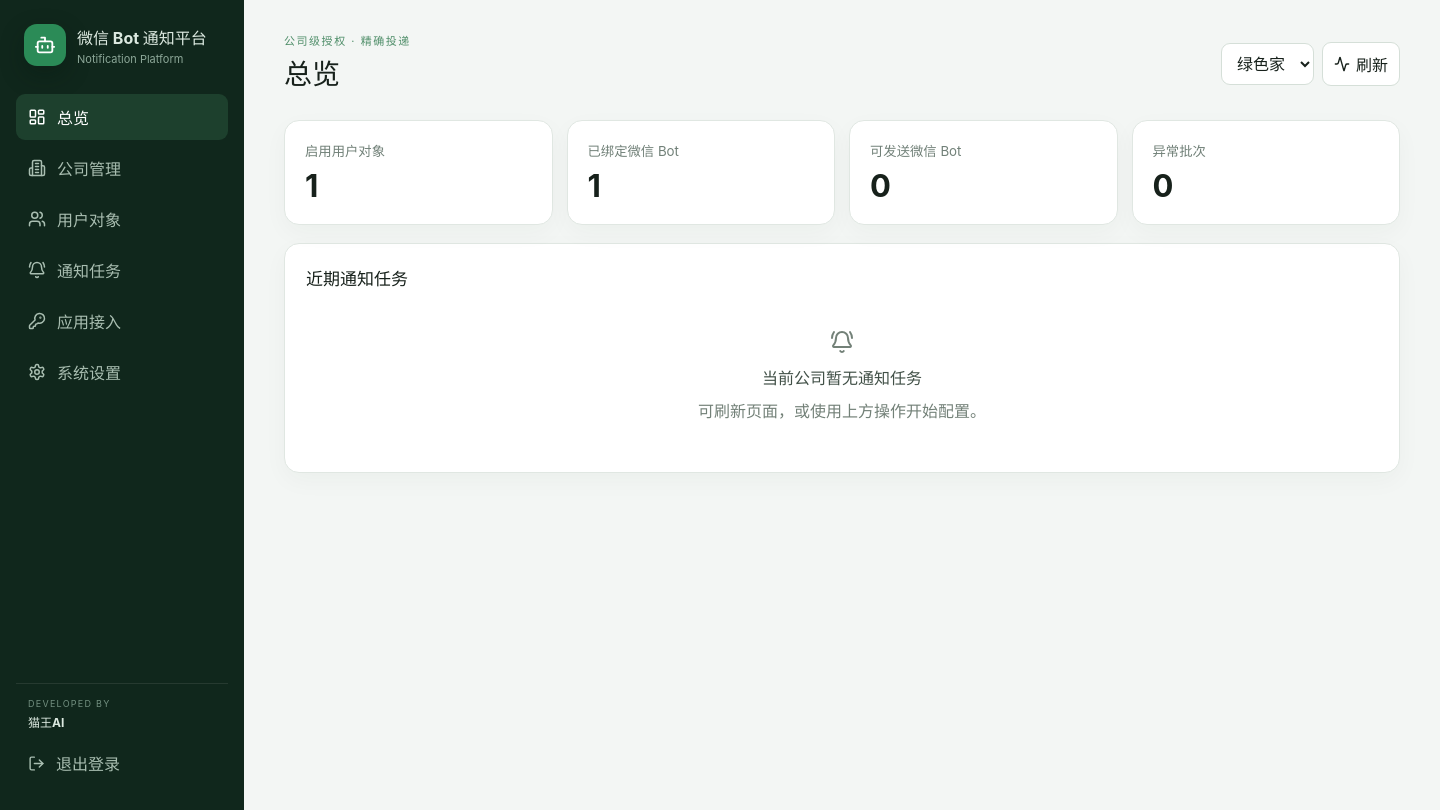
Scenario: merged user object management › explains that the first Weixin message initializes a newly paired Bot
The width and height of the screenshot is (1440, 810).
Click the button "用户对象". click: (122, 219)
box: [16,196,228,242]
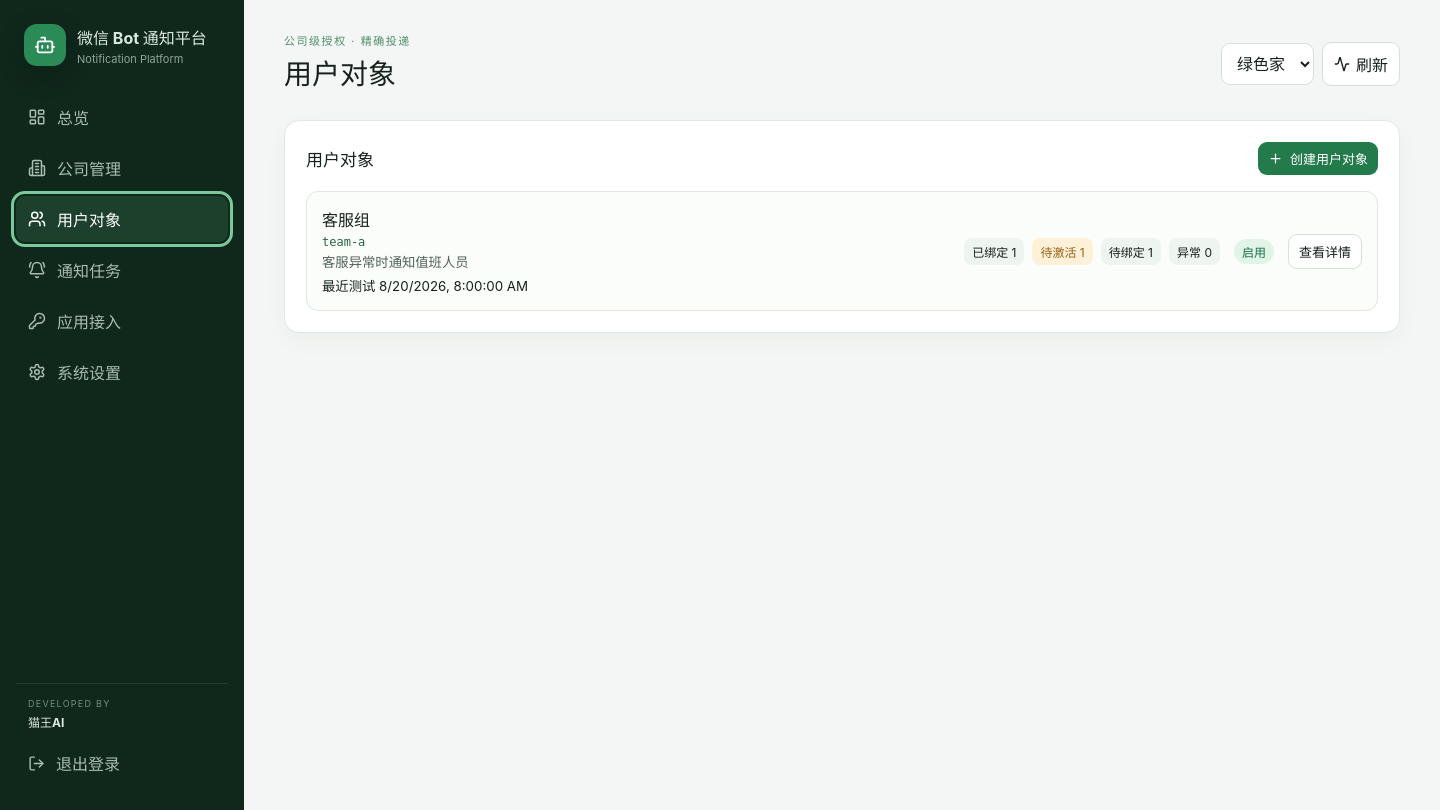
Click the button with aria-label "展开客服组详情". click: (1325, 251)
box: [1288,234,1362,269]
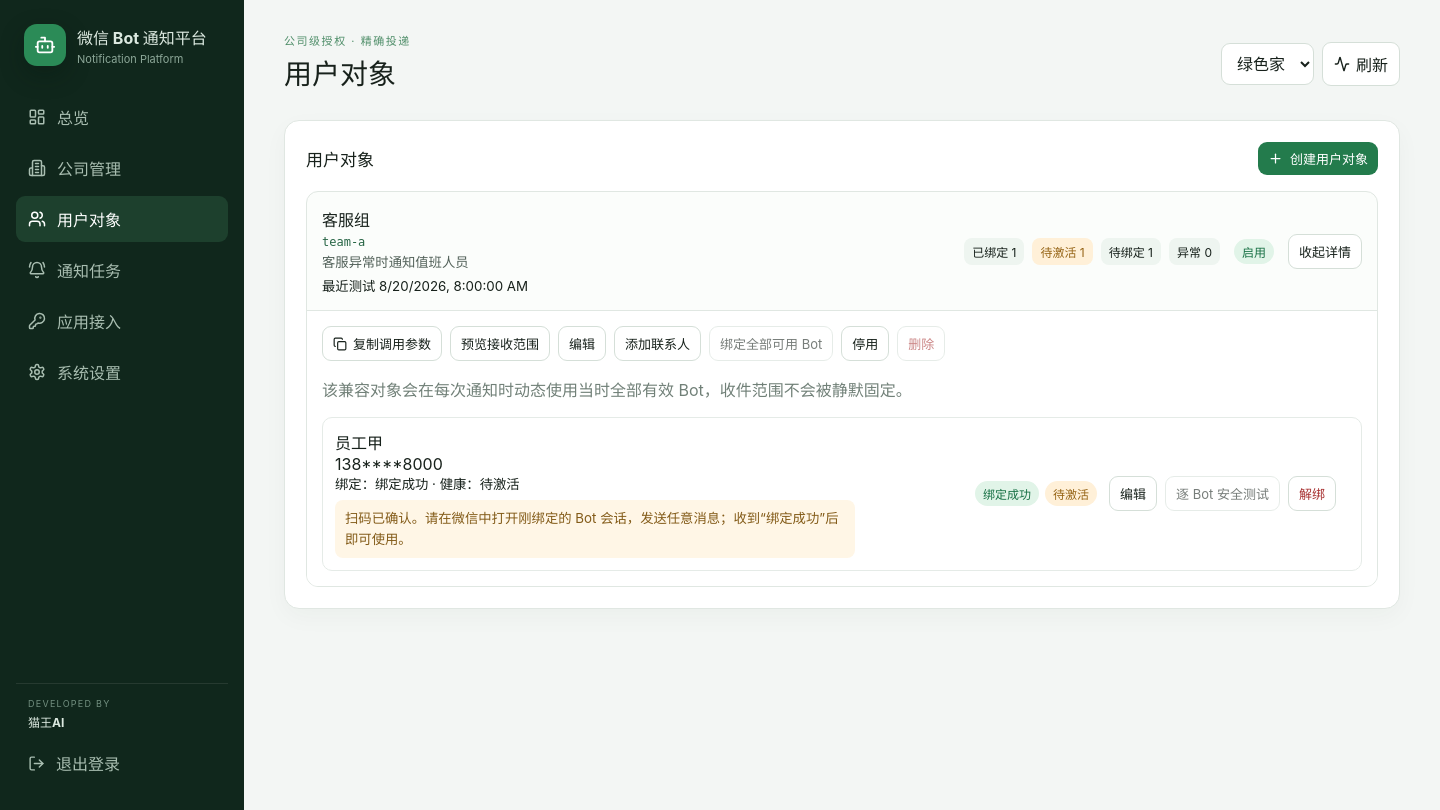
Check: the text "待激活 1" is shown, box [1032,238,1093,265]
Check: the text "绑定：绑定成功 · 健康：待激活" is shown, box [335,476,520,492]
Check: the text "扫码已确认。请在微信中打开刚绑定的 Bot 会话，发送任意消息；收到“绑定成功”后即可使用。" is shown, box [335,500,855,558]
